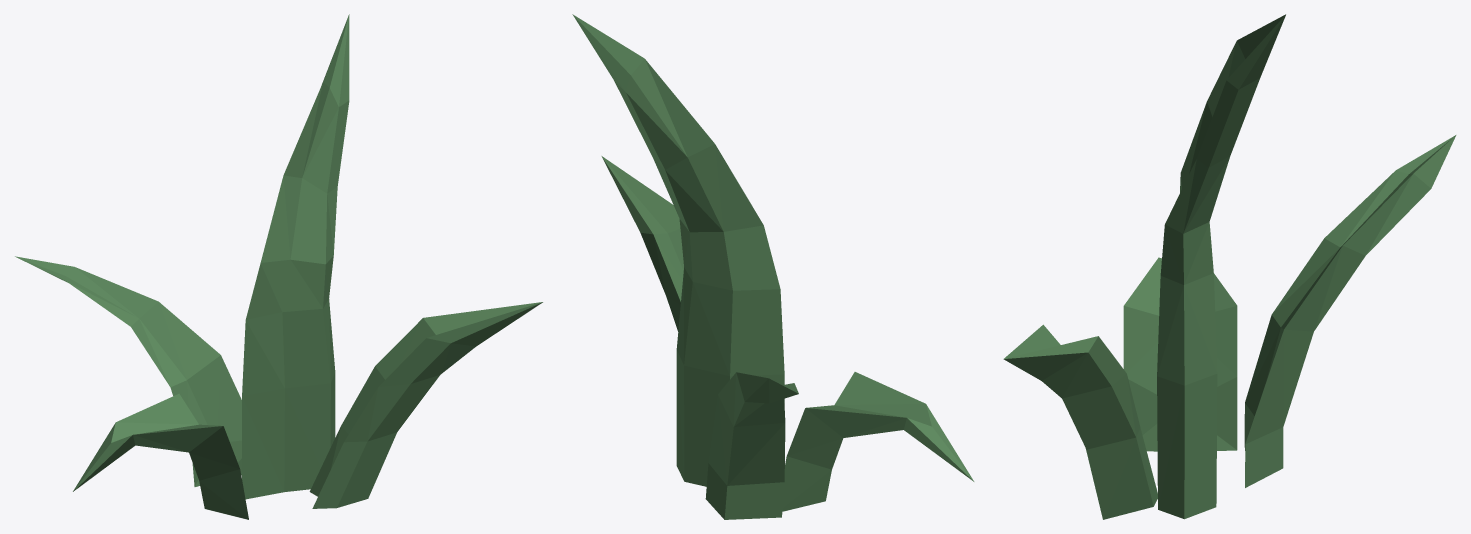
The model's file is _grass_1.glb.
The picture shows the model from 3 angles, left to right: view 1: azimuth 30°, elevation 25°; view 2: azimuth 150°, elevation 25°; view 3: azimuth 270°, elevation 25°; orthographic projection. The views are drawn at different scales.
Visible parts, largest first — view 1: grass_1; view 2: grass_1; view 3: grass_1.
Part boxes in pixels (x1,y1,x2,y2): grass_1: (15,14,542,519); grass_1: (572,14,974,519); grass_1: (1003,14,1456,519).
Size of the model in its own units: 0.7765 by 0.7738 by 0.5899.
Materials: 1 (1 with a texture image).
